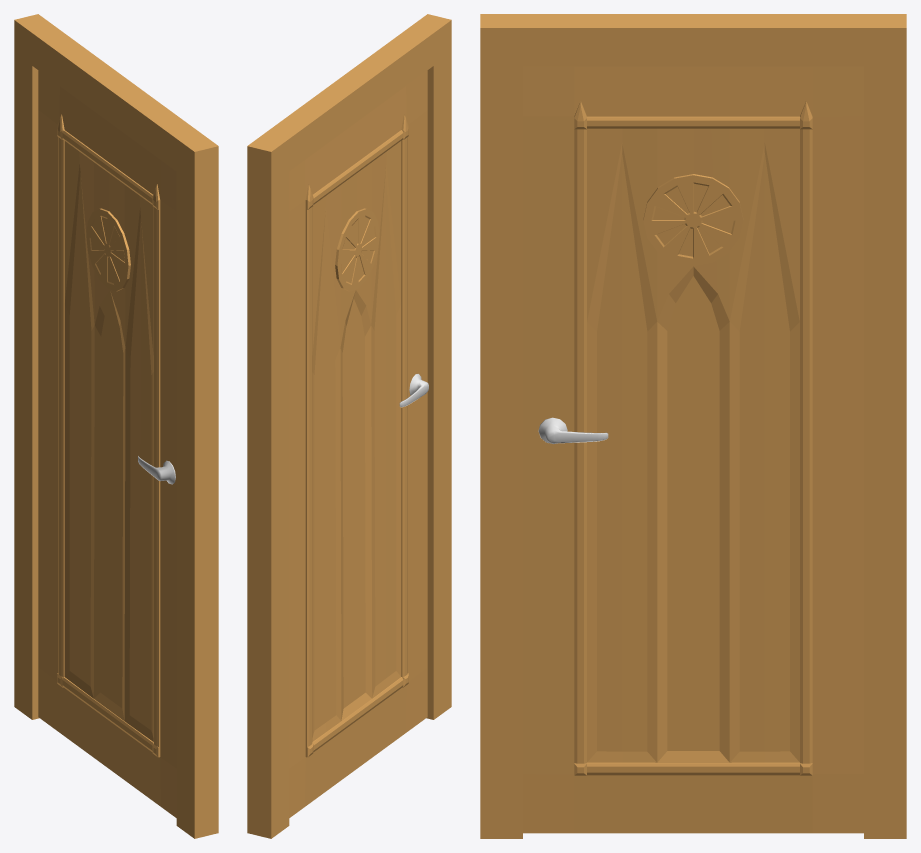
File: dOOR.fbx
3 views of the same model, side by side, from view 1: azimuth 30°, elevation 25°; view 2: azimuth 150°, elevation 25°; view 3: azimuth 270°, elevation 25° (orthographic). The views are drawn at different scales.
Visible parts, largest first — view 1: Door.003, DoorFrame.001, Handle_Back.001; view 2: Door.003, DoorFrame.001, Handle_Back.001; view 3: Door.003, DoorFrame.001, Handle_Back.001.
Boxes of the visible parts, left/top/right/bottom form: Door.003: left=38, top=70, right=176, bottom=817; DoorFrame.001: left=14, top=14, right=218, bottom=838; Handle_Back.001: left=138, top=456, right=175, bottom=484; Door.003: left=289, top=70, right=427, bottom=817; DoorFrame.001: left=247, top=14, right=451, bottom=838; Handle_Back.001: left=399, top=373, right=428, bottom=407; Door.003: left=523, top=66, right=863, bottom=833; DoorFrame.001: left=480, top=14, right=906, bottom=838; Handle_Back.001: left=538, top=417, right=608, bottom=443.
Bounding box in the file's own units: 11.37 × 210 × 100.
